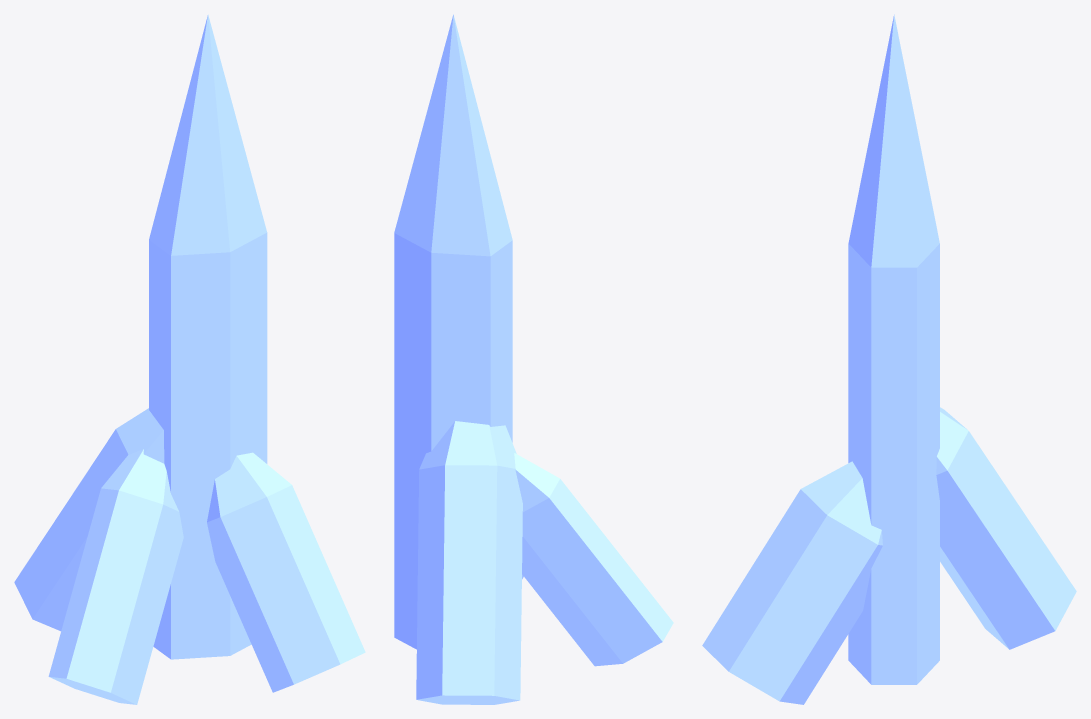
The model's file is cryst1.glb.
The picture shows the model from 3 angles, left to right: view 1: azimuth 30°, elevation 25°; view 2: azimuth 150°, elevation 25°; view 3: azimuth 270°, elevation 25°; orthographic projection. The views are drawn at different scales.
Visible parts, largest first — view 1: shard; view 2: shard; view 3: shard.
Part boxes in pixels (left/top/right/bottom): shard: left=14, top=14, right=365, bottom=704; shard: left=394, top=14, right=673, bottom=704; shard: left=702, top=14, right=1076, bottom=704.
Size of the model in its own units: 4.1 by 9.55 by 4.86.
